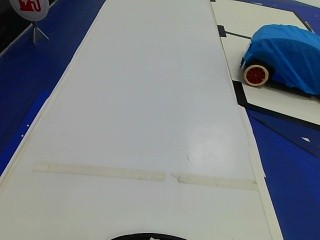battery: (8, 0, 56, 20)
car: (236, 19, 318, 100)
